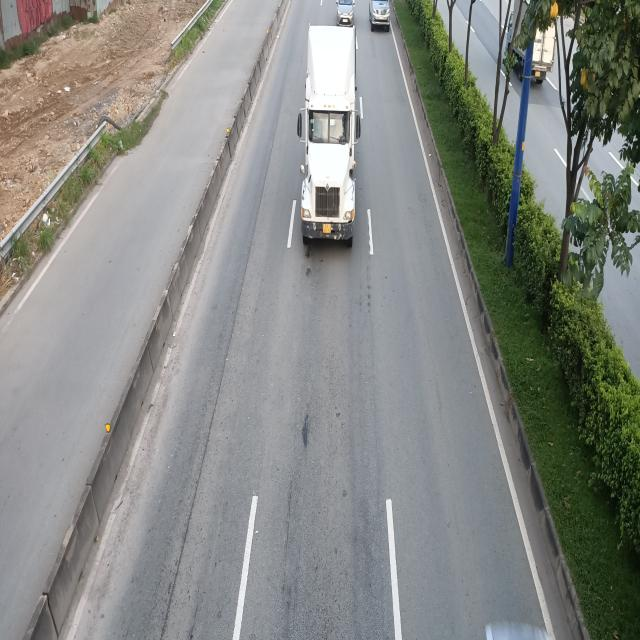container: (298, 26, 362, 246)
